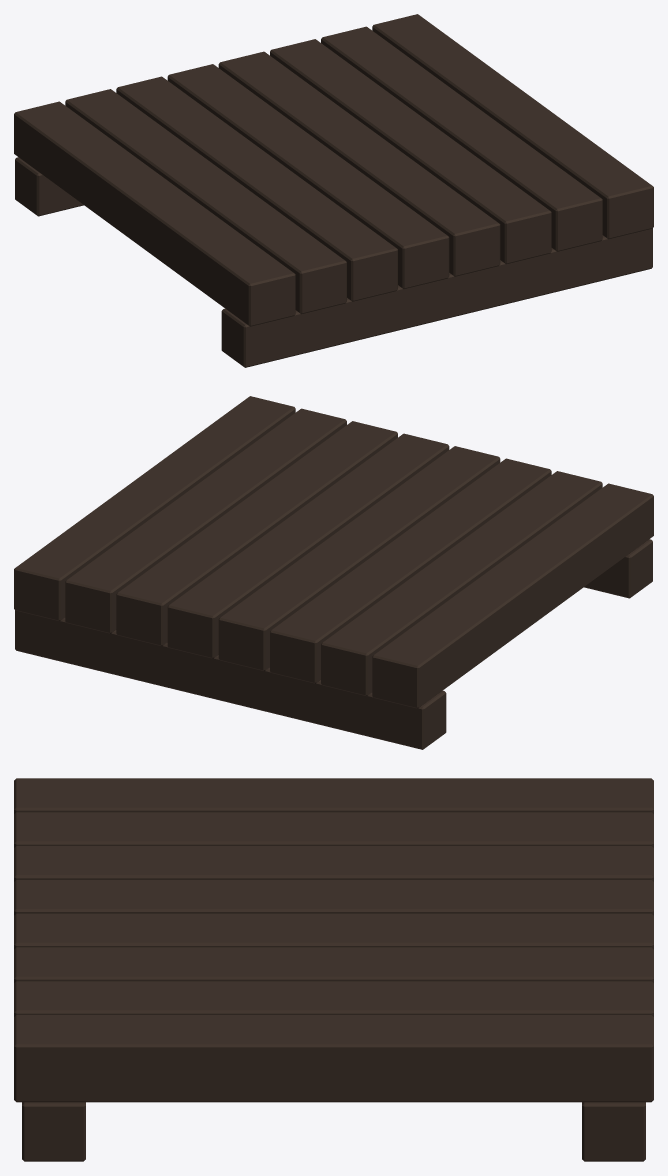
Rendered from pier_deck_8.fbx.
The picture shows the model from 3 angles, top to bottom: view 1: azimuth 30°, elevation 25°; view 2: azimuth 150°, elevation 25°; view 3: azimuth 270°, elevation 25°; orthographic projection. The views are drawn at different scales.
Parts seen in each view (by area): view 1: pier_deck_8; view 2: pier_deck_8; view 3: pier_deck_8.
Boxes of the visible parts, left/top/right/bottom form: pier_deck_8: left=14, top=14, right=653, bottom=367; pier_deck_8: left=14, top=396, right=653, bottom=749; pier_deck_8: left=14, top=778, right=653, bottom=1161.
Bounding box in the file's own units: 800 × 160 × 800.
